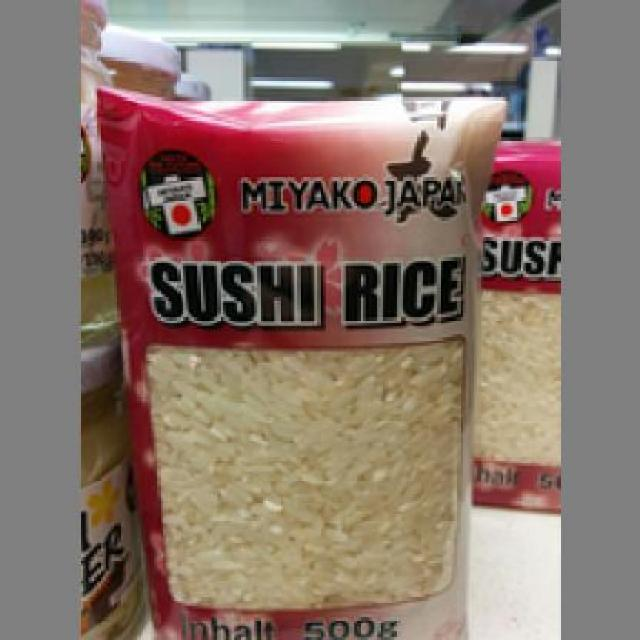Rice: (90, 79, 503, 635)
